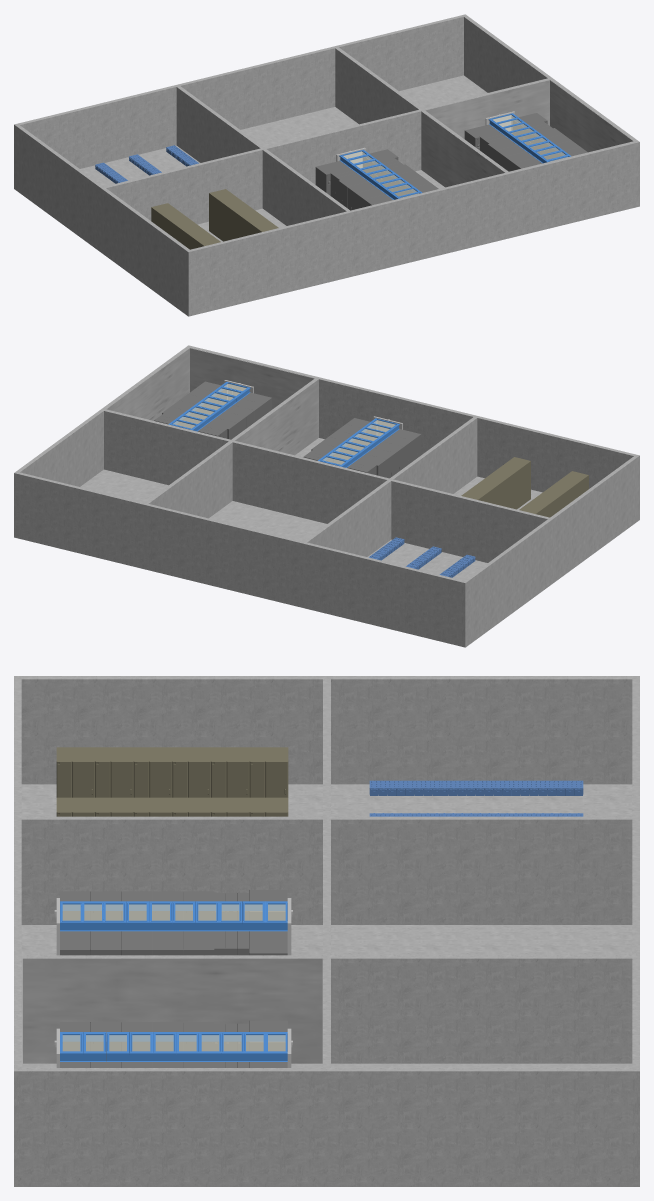
The model's file is level3.glb.
The picture shows the model from 3 angles, top to bottom: view 1: azimuth 30°, elevation 25°; view 2: azimuth 150°, elevation 25°; view 3: azimuth 270°, elevation 25°; orthographic projection. The views are drawn at different scales.
Visible parts, largest first — view 1: 1-1jianzhu, 1-1-1jianzhu, dianyuangui.008, dianyuangui.007, jigui.023, dianyuangui.009; view 2: 1-1jianzhu, 1-1-1jianzhu, dianyuangui.011, dianyuangui.012, dianyuangui.010; view 3: 1-1jianzhu, 1-1-1jianzhu, dianyuangui.001, dianyuangui.004, dianyuangui.002, dianyuangui.003, dianyuangui.005, dianyuangui.006, jigui.024, jigui.031, jigui.032, jigui.033 (+27 smaller).
Boxes of the visible parts, x1,y1,x2,y2 form: 1-1jianzhu: (14, 14, 639, 316); 1-1-1jianzhu: (421, 80, 633, 187); dianyuangui.008: (219, 197, 246, 241); dianyuangui.007: (209, 189, 235, 238); jigui.023: (315, 161, 349, 195); dianyuangui.009: (230, 205, 257, 239); 1-1jianzhu: (14, 345, 639, 647); 1-1-1jianzhu: (106, 348, 318, 455); dianyuangui.011: (493, 465, 520, 509); dianyuangui.012: (504, 457, 530, 506); dianyuangui.010: (482, 473, 509, 507); 1-1jianzhu: (14, 676, 639, 1186); 1-1-1jianzhu: (21, 958, 322, 1067); dianyuangui.001: (249, 747, 288, 797); dianyuangui.004: (133, 747, 172, 797); dianyuangui.002: (211, 747, 249, 797); dianyuangui.003: (172, 747, 210, 797); dianyuangui.005: (95, 747, 133, 797); dianyuangui.006: (56, 747, 94, 797); jigui.024: (249, 931, 287, 955); jigui.031: (152, 931, 183, 955); jigui.032: (121, 931, 152, 955); jigui.033: (90, 931, 121, 955).
Bounding box in the file's own units: 24.2 × 3.3 × 16.2.
Materials: 7 (1 with a texture image).
